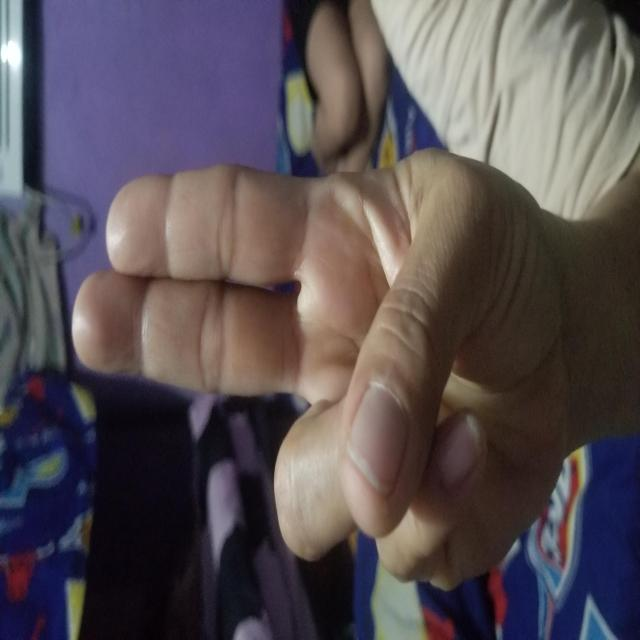U: (42, 72, 494, 564)
